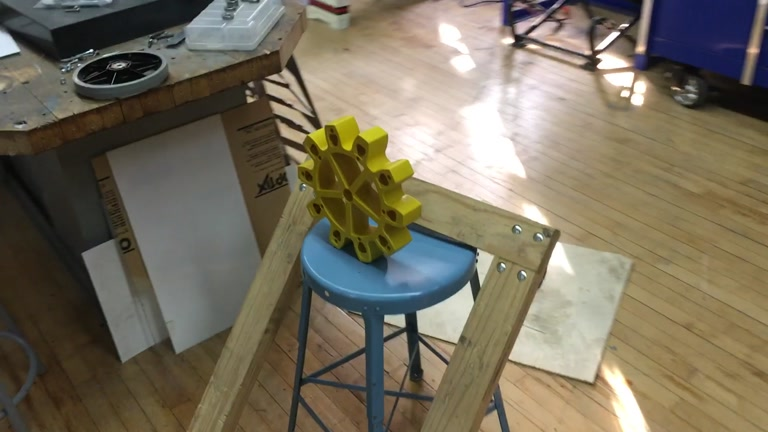gear: (297, 115, 423, 266)
